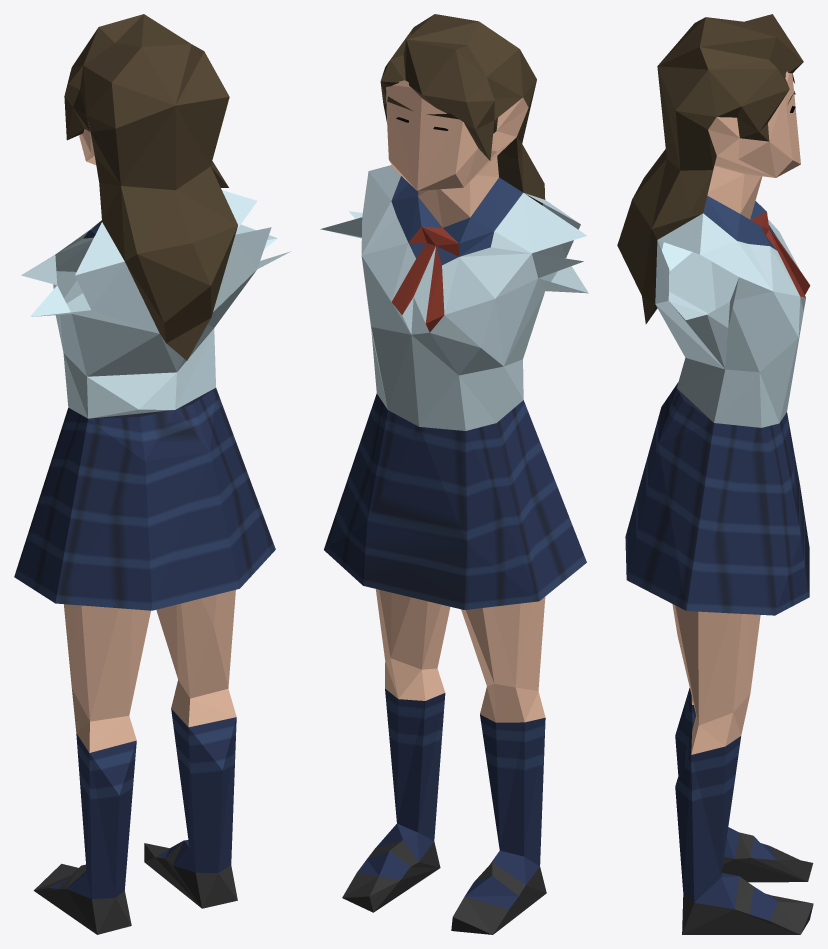
Rendered from Body_Lo.obj.
3 views of the same model, side by side, from view 1: azimuth 30°, elevation 25°; view 2: azimuth 150°, elevation 25°; view 3: azimuth 270°, elevation 25° (orthographic).
Bounding box in the file's own units: 0.5737 × 1.82 × 0.3699.
Materials: 1 (1 with a texture image).
